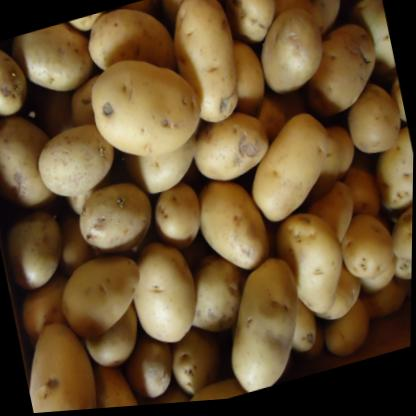--: (79, 35, 217, 183), (210, 252, 321, 401), (155, 0, 250, 139), (236, 108, 341, 233), (123, 224, 215, 366), (272, 199, 359, 344), (51, 236, 154, 351), (189, 163, 284, 287), (249, 0, 336, 107), (68, 169, 164, 262)
